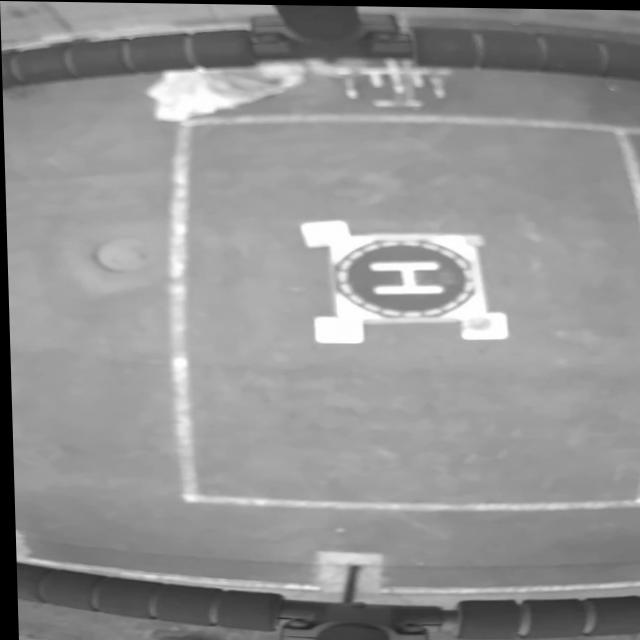Helipad: (368, 259, 442, 292)
